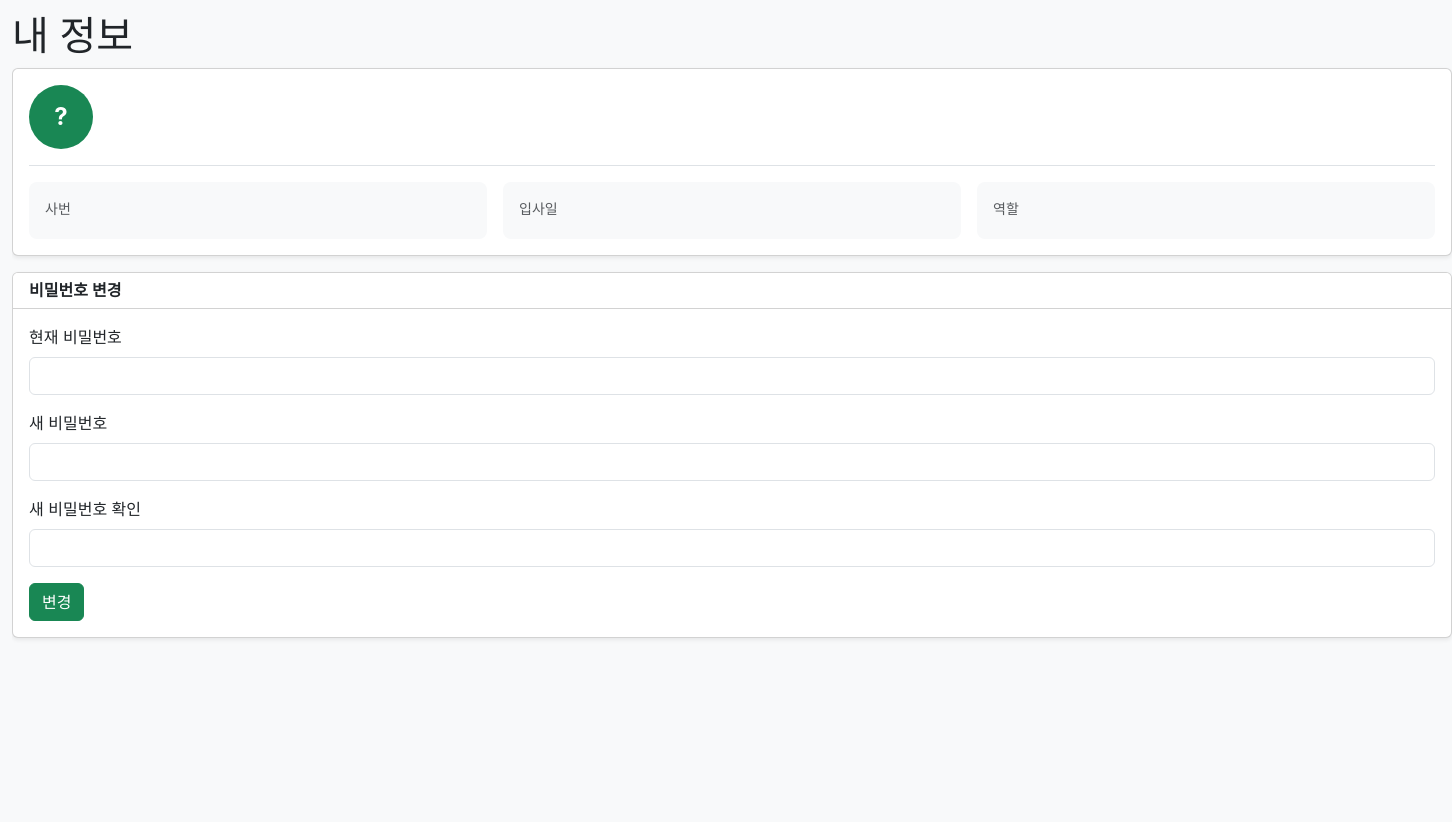
Test: MePage › 현재 비밀번호가 틀리면(400) 에러를 표시한다
In the password field below "현재 비밀번호": coordinates (732, 376) x1=29 y1=357 x2=1435 y2=395, type "old-pw"
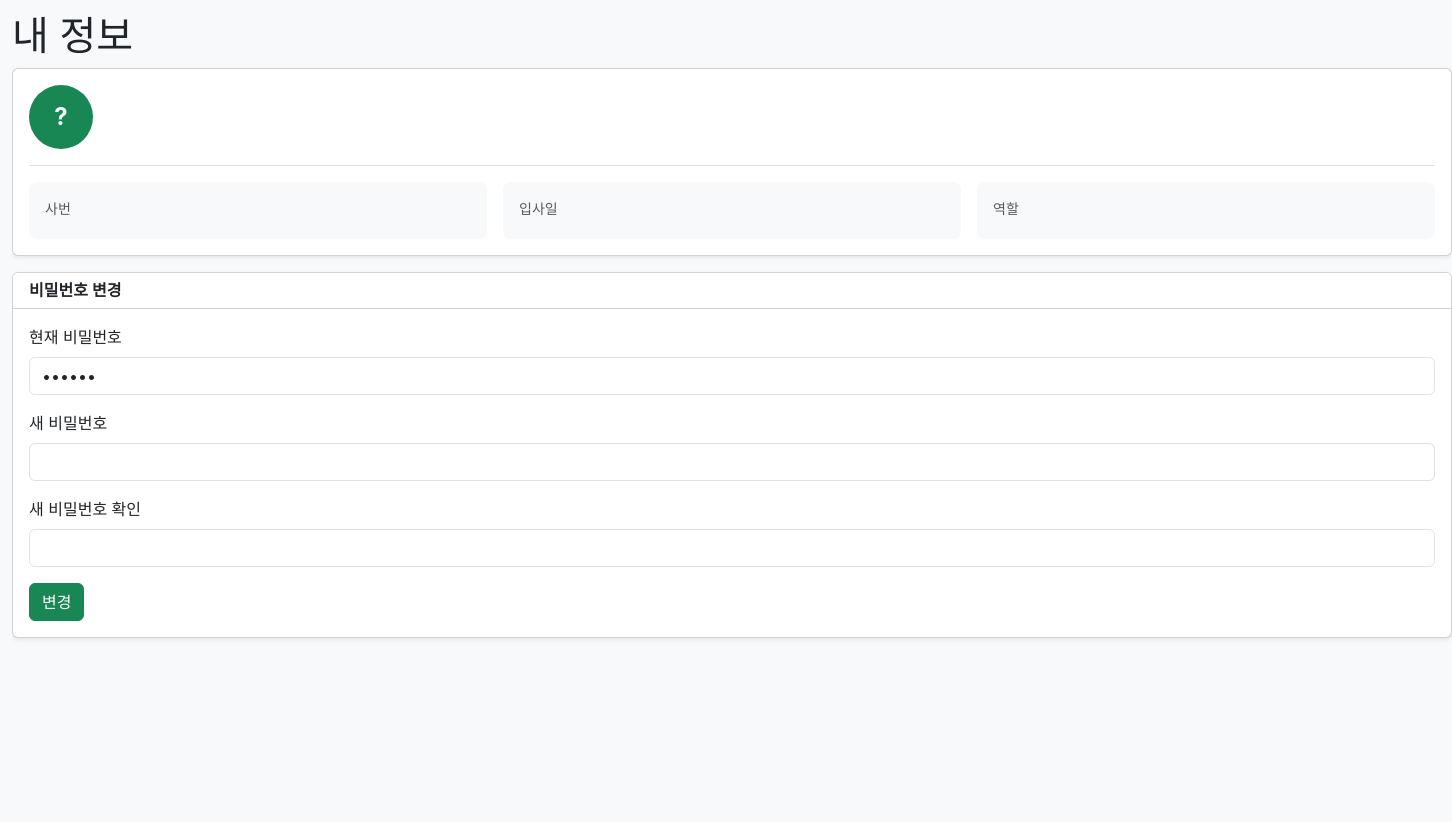
In the 2nd password field: coordinates (732, 462) x1=29 y1=443 x2=1435 y2=481, type "new-pw1!"
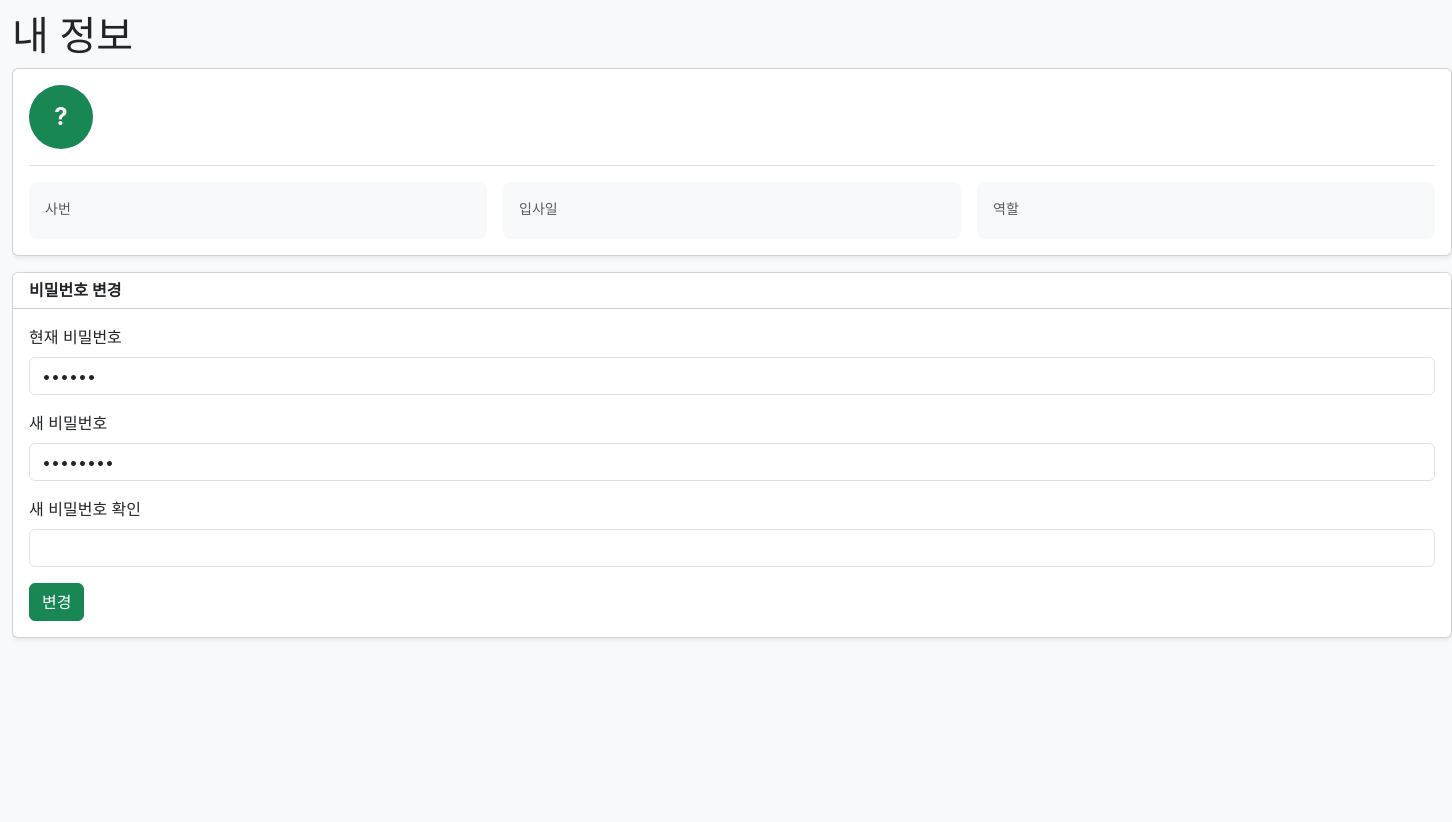
In the password field below "새 비밀번호 확인": coordinates (732, 548) x1=29 y1=529 x2=1435 y2=567, type "new-pw1!"
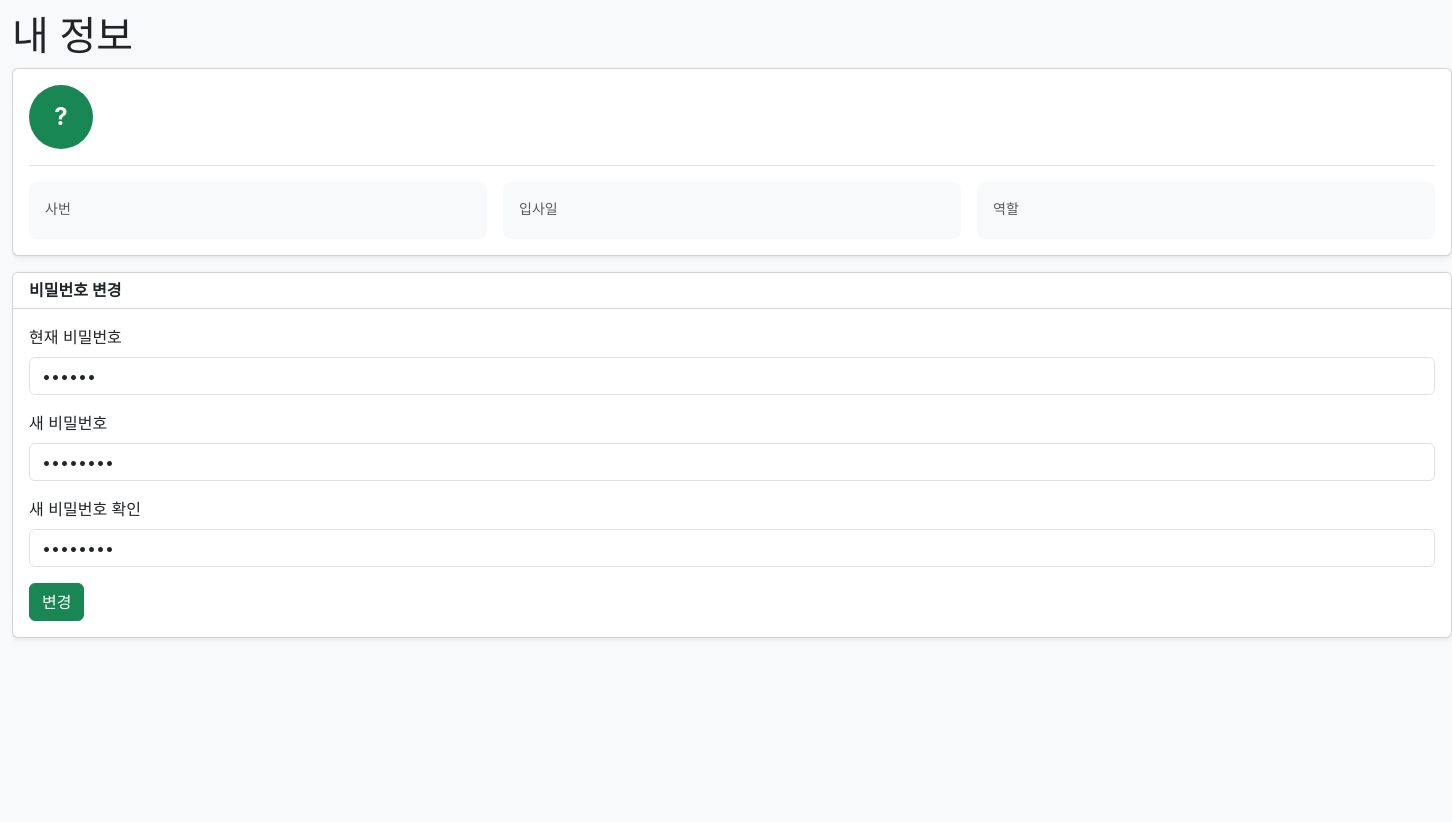
Click the button "변경": coordinates (57, 602) x1=29 y1=583 x2=84 y2=621
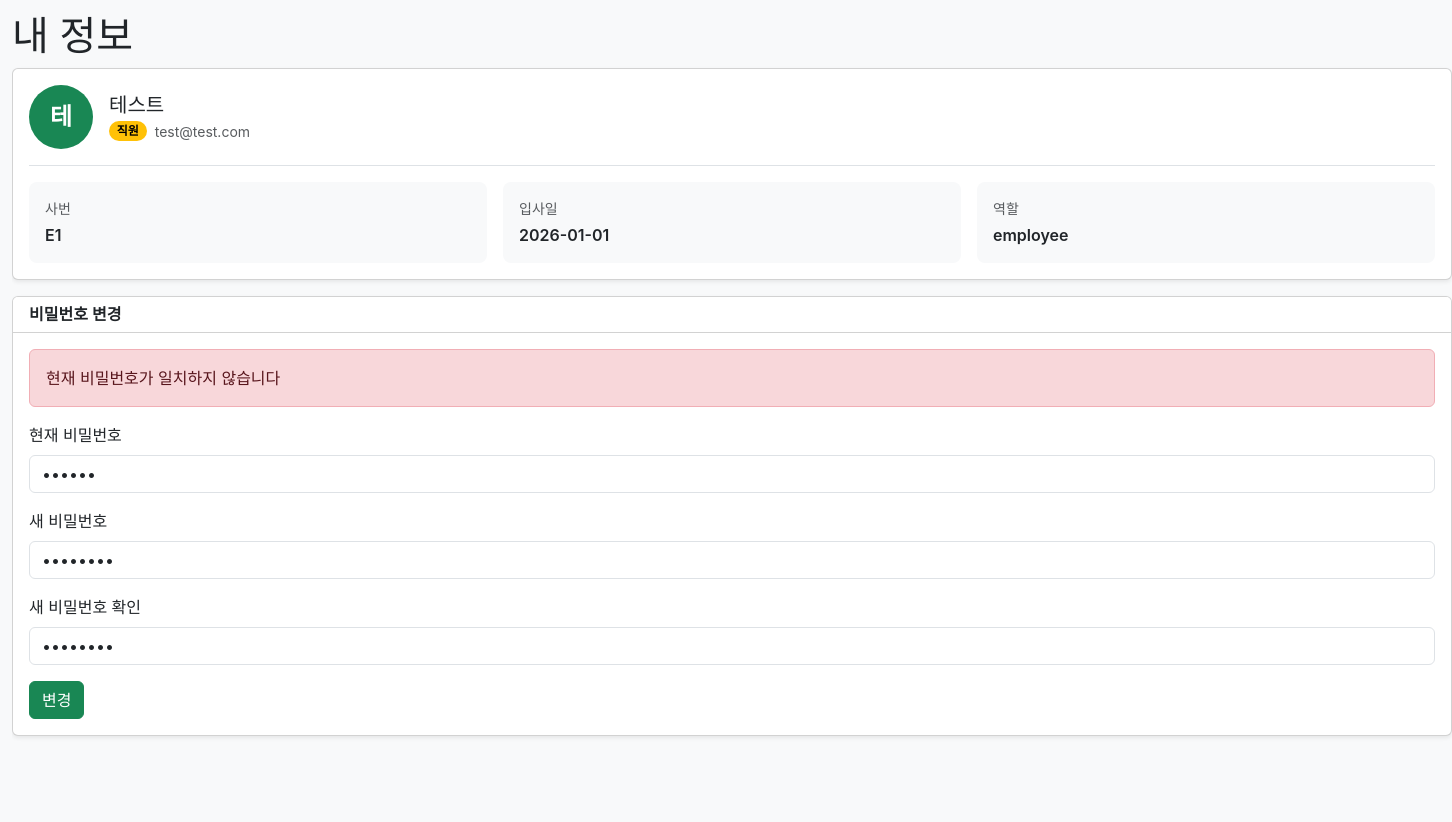
Expected: the message reads "현재 비밀번호가 일치하지 않습니다", x1=46 y1=368 x2=280 y2=388
